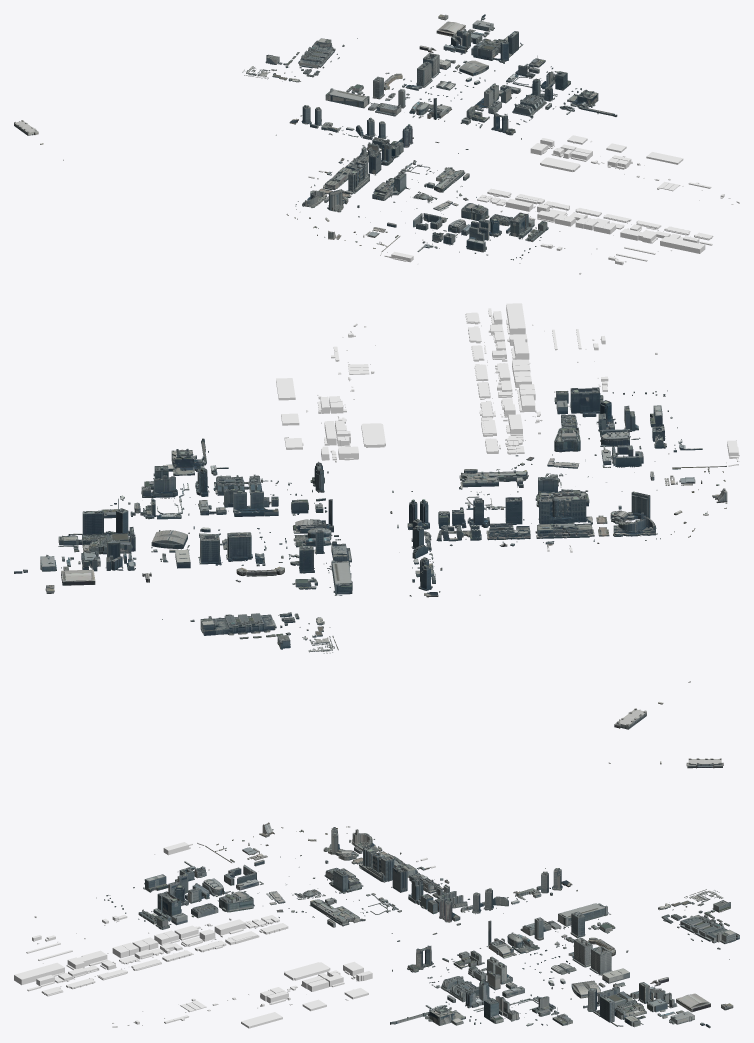
File: tokyo-city-v2-mobile.glb
The picture shows the model from 3 angles, top to bottom: view 1: azimuth 30°, elevation 25°; view 2: azimuth 150°, elevation 25°; view 3: azimuth 270°, elevation 25°; orthographic projection. The views are drawn at different scales.
Visible parts, largest first — view 1: Production_Tokyo_13108-data167, Production_Tokyo_13108-data191, Production_Tokyo_13108-data169, Production_Tokyo_13108-data188, Production_Tokyo_13108-data179, Production_Tokyo_13108-data193, Production_Tokyo_13108-data180, Production_Tokyo_13108-data189, Production_Tokyo_13108-data186, Production_Tokyo_13108-data178, Production_Tokyo_13108-data187, Production_Tokyo_13108-data181 (+4 smaller); view 2: Production_Tokyo_13108-data167, Production_Tokyo_13108-data191, Production_Tokyo_13108-data179, Production_Tokyo_13108-data169, Production_Tokyo_13108-data188, Production_Tokyo_13108-data180, Production_Tokyo_13108-data193, Production_Tokyo_13103-data439, Production_Tokyo_13108-data178, Production_Tokyo_13108-data189, Production_Tokyo_13108-data186, Production_Tokyo_13108-data181 (+6 smaller); view 3: Production_Tokyo_13108-data167, Production_Tokyo_13108-data191, Production_Tokyo_13108-data188, Production_Tokyo_13108-data169, Production_Tokyo_13108-data179, Production_Tokyo_13108-data189, Production_Tokyo_13108-data193, Production_Tokyo_13108-data180, Production_Tokyo_13108-data178, Production_Tokyo_13108-data187, Production_Tokyo_13108-data186, Production_Tokyo_13108-data181 (+8 smaller).
Boxes of the visible parts, <box> form: Production_Tokyo_13108-data167: <box>436,14,545,76</box>; Production_Tokyo_13108-data191: <box>372,164,489,234</box>; Production_Tokyo_13108-data169: <box>500,65,617,116</box>; Production_Tokyo_13108-data188: <box>575,208,712,254</box>; Production_Tokyo_13108-data179: <box>289,38,409,108</box>; Production_Tokyo_13108-data193: <box>443,212,536,263</box>; Production_Tokyo_13108-data180: <box>428,79,534,139</box>; Production_Tokyo_13108-data189: <box>527,203,647,274</box>; Production_Tokyo_13108-data186: <box>530,138,600,171</box>; Production_Tokyo_13108-data178: <box>357,38,480,93</box>; Production_Tokyo_13108-data187: <box>437,167,569,213</box>; Production_Tokyo_13108-data181: <box>368,89,468,153</box>; Production_Tokyo_13108-data167: <box>14,498,187,593</box>; Production_Tokyo_13108-data191: <box>461,426,641,509</box>; Production_Tokyo_13108-data179: <box>190,546,352,639</box>; Production_Tokyo_13108-data169: <box>110,438,249,519</box>; Production_Tokyo_13108-data188: <box>468,303,557,399</box>; Production_Tokyo_13108-data180: <box>193,461,328,548</box>; Production_Tokyo_13108-data193: <box>561,387,672,441</box>; Production_Tokyo_13103-data439: <box>535,495,594,541</box>; Production_Tokyo_13108-data178: <box>142,532,266,619</box>; Production_Tokyo_13108-data189: <box>492,329,657,421</box>; Production_Tokyo_13108-data186: <box>321,417,385,462</box>; Production_Tokyo_13108-data181: <box>286,490,412,566</box>; Production_Tokyo_13108-data167: <box>552,980,733,1028</box>; Production_Tokyo_13108-data191: <box>202,867,388,925</box>; Production_Tokyo_13108-data188: <box>14,945,193,992</box>; Production_Tokyo_13108-data169: <box>390,980,559,1026</box>; Production_Tokyo_13108-data179: <box>554,903,739,956</box>; Production_Tokyo_13108-data189: <box>26,909,215,955</box>; Production_Tokyo_13108-data193: <box>96,867,218,921</box>; Production_Tokyo_13108-data180: <box>392,945,556,991</box>; Production_Tokyo_13108-data178: <box>551,938,729,989</box>; Production_Tokyo_13108-data187: <box>195,915,365,952</box>; Production_Tokyo_13108-data186: <box>284,961,372,991</box>; Production_Tokyo_13108-data181: <box>391,917,561,957</box>.
Size of the model in its own units: 3233 by 148 by 3727.
42 materials, 41 textured.
